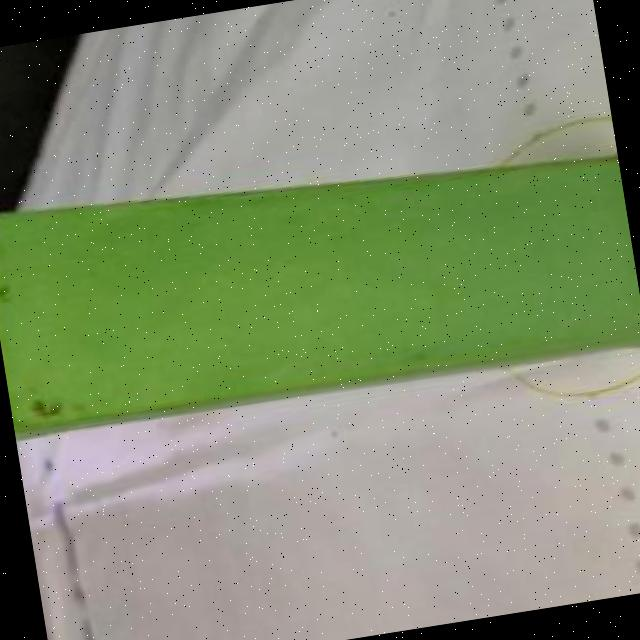greenbox: (0, 114, 640, 448)
